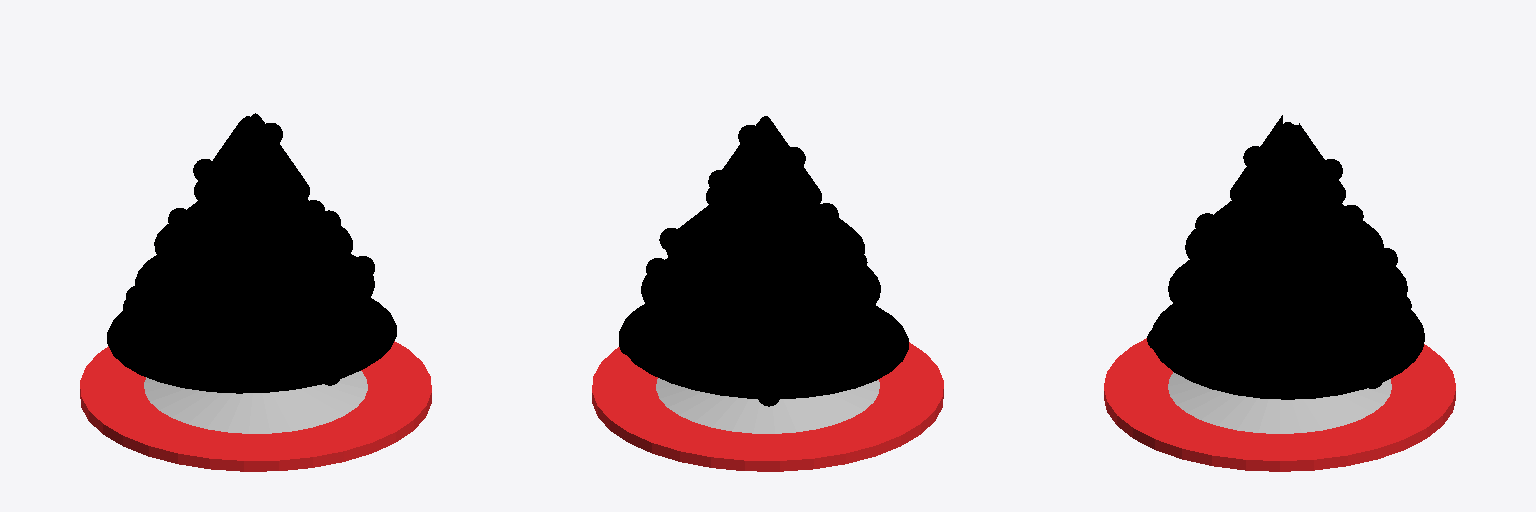
3 renders of one model, left to right at view 1: azimuth 30°, elevation 25°; view 2: azimuth 150°, elevation 25°; view 3: azimuth 270°, elevation 25°, orthographic.
Parts seen in each view (by area): view 1: arbolAnim, Cilindro, Cono; view 2: arbolAnim, Cilindro, Cono; view 3: arbolAnim, Cilindro, Cono.
Part boxes in pixels (x1,y1,x2,y2): arbolAnim: (107,113,396,393); Cilindro: (80,341,431,471); Cono: (144,371,367,433); arbolAnim: (619,116,908,406); Cilindro: (592,342,943,471); Cono: (656,378,879,433); arbolAnim: (1147,115,1424,399); Cilindro: (1104,338,1455,471); Cono: (1168,372,1391,433).
Bounding box in the file's own units: 1.76 × 1.56 × 1.76.
Materials: 5 (1 with a texture image).